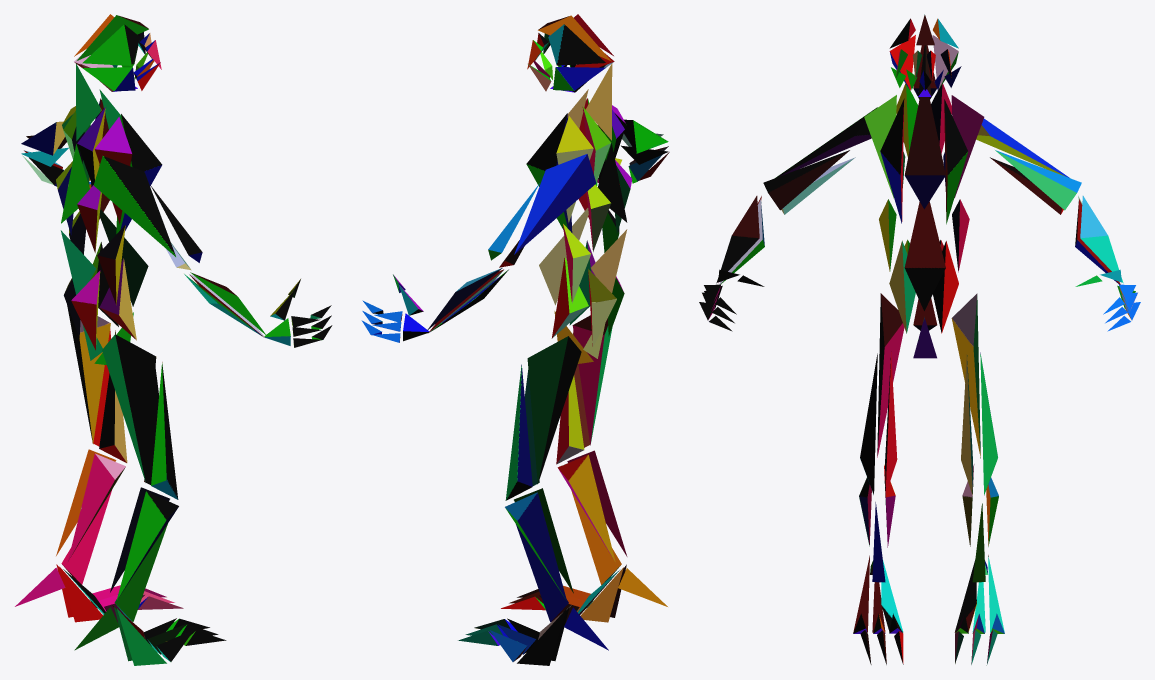
Rendered from DATBOI.fbx.
3 views of the same model, side by side, from view 1: azimuth 30°, elevation 25°; view 2: azimuth 150°, elevation 25°; view 3: azimuth 270°, elevation 25° (orthographic). The views are drawn at different scales.
Visible parts, largest first — view 1: Cone_Baked; view 2: Cone_Baked; view 3: Cone_Baked.
Boxes of the visible parts, x1,y1,x2,y2 form: Cone_Baked: [15, 14, 332, 665]; Cone_Baked: [361, 14, 669, 665]; Cone_Baked: [699, 14, 1140, 665].
Size of the model in its own units: 985 by 3105 by 2031.
Materials: 1 (1 with a texture image).
